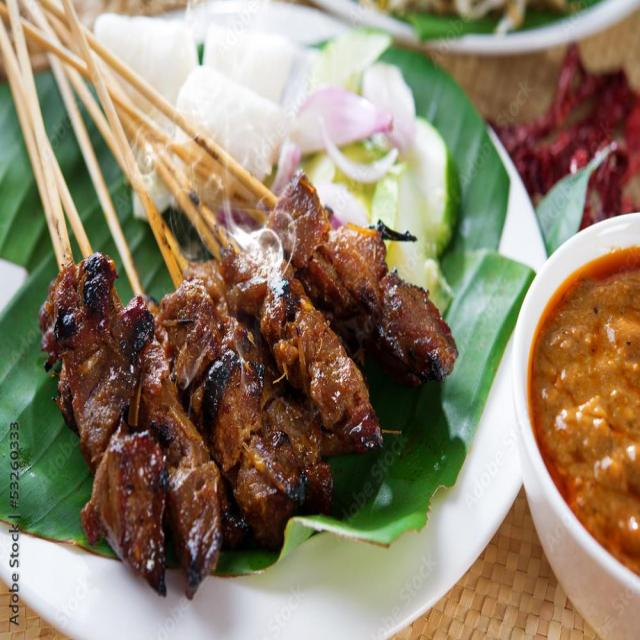Sate: (0, 41, 510, 592)
